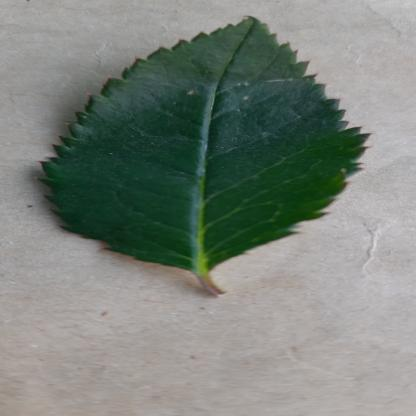normal: (33, 18, 381, 270)
